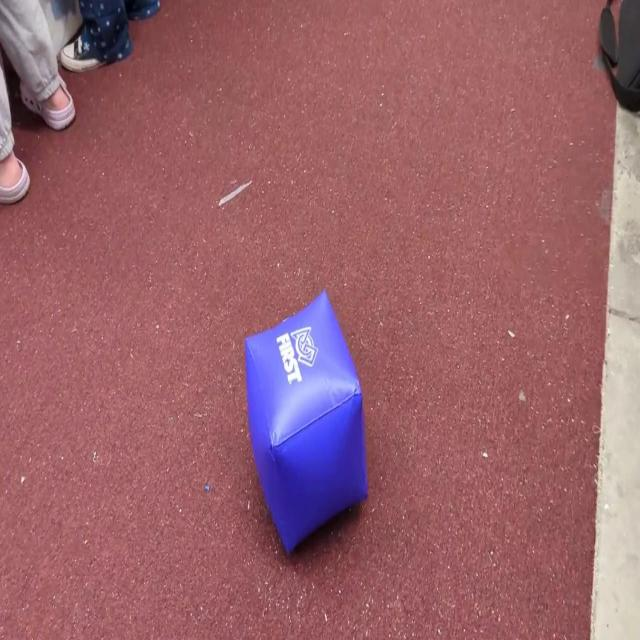frc_cube: (245, 291, 368, 561)
